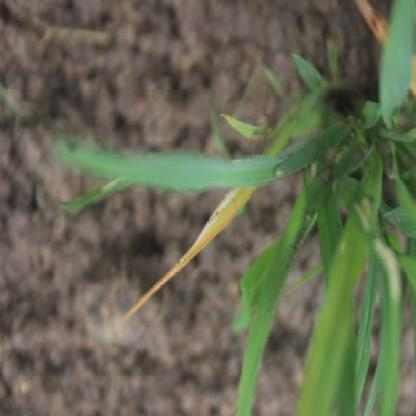Tungro: (132, 191, 261, 321)
